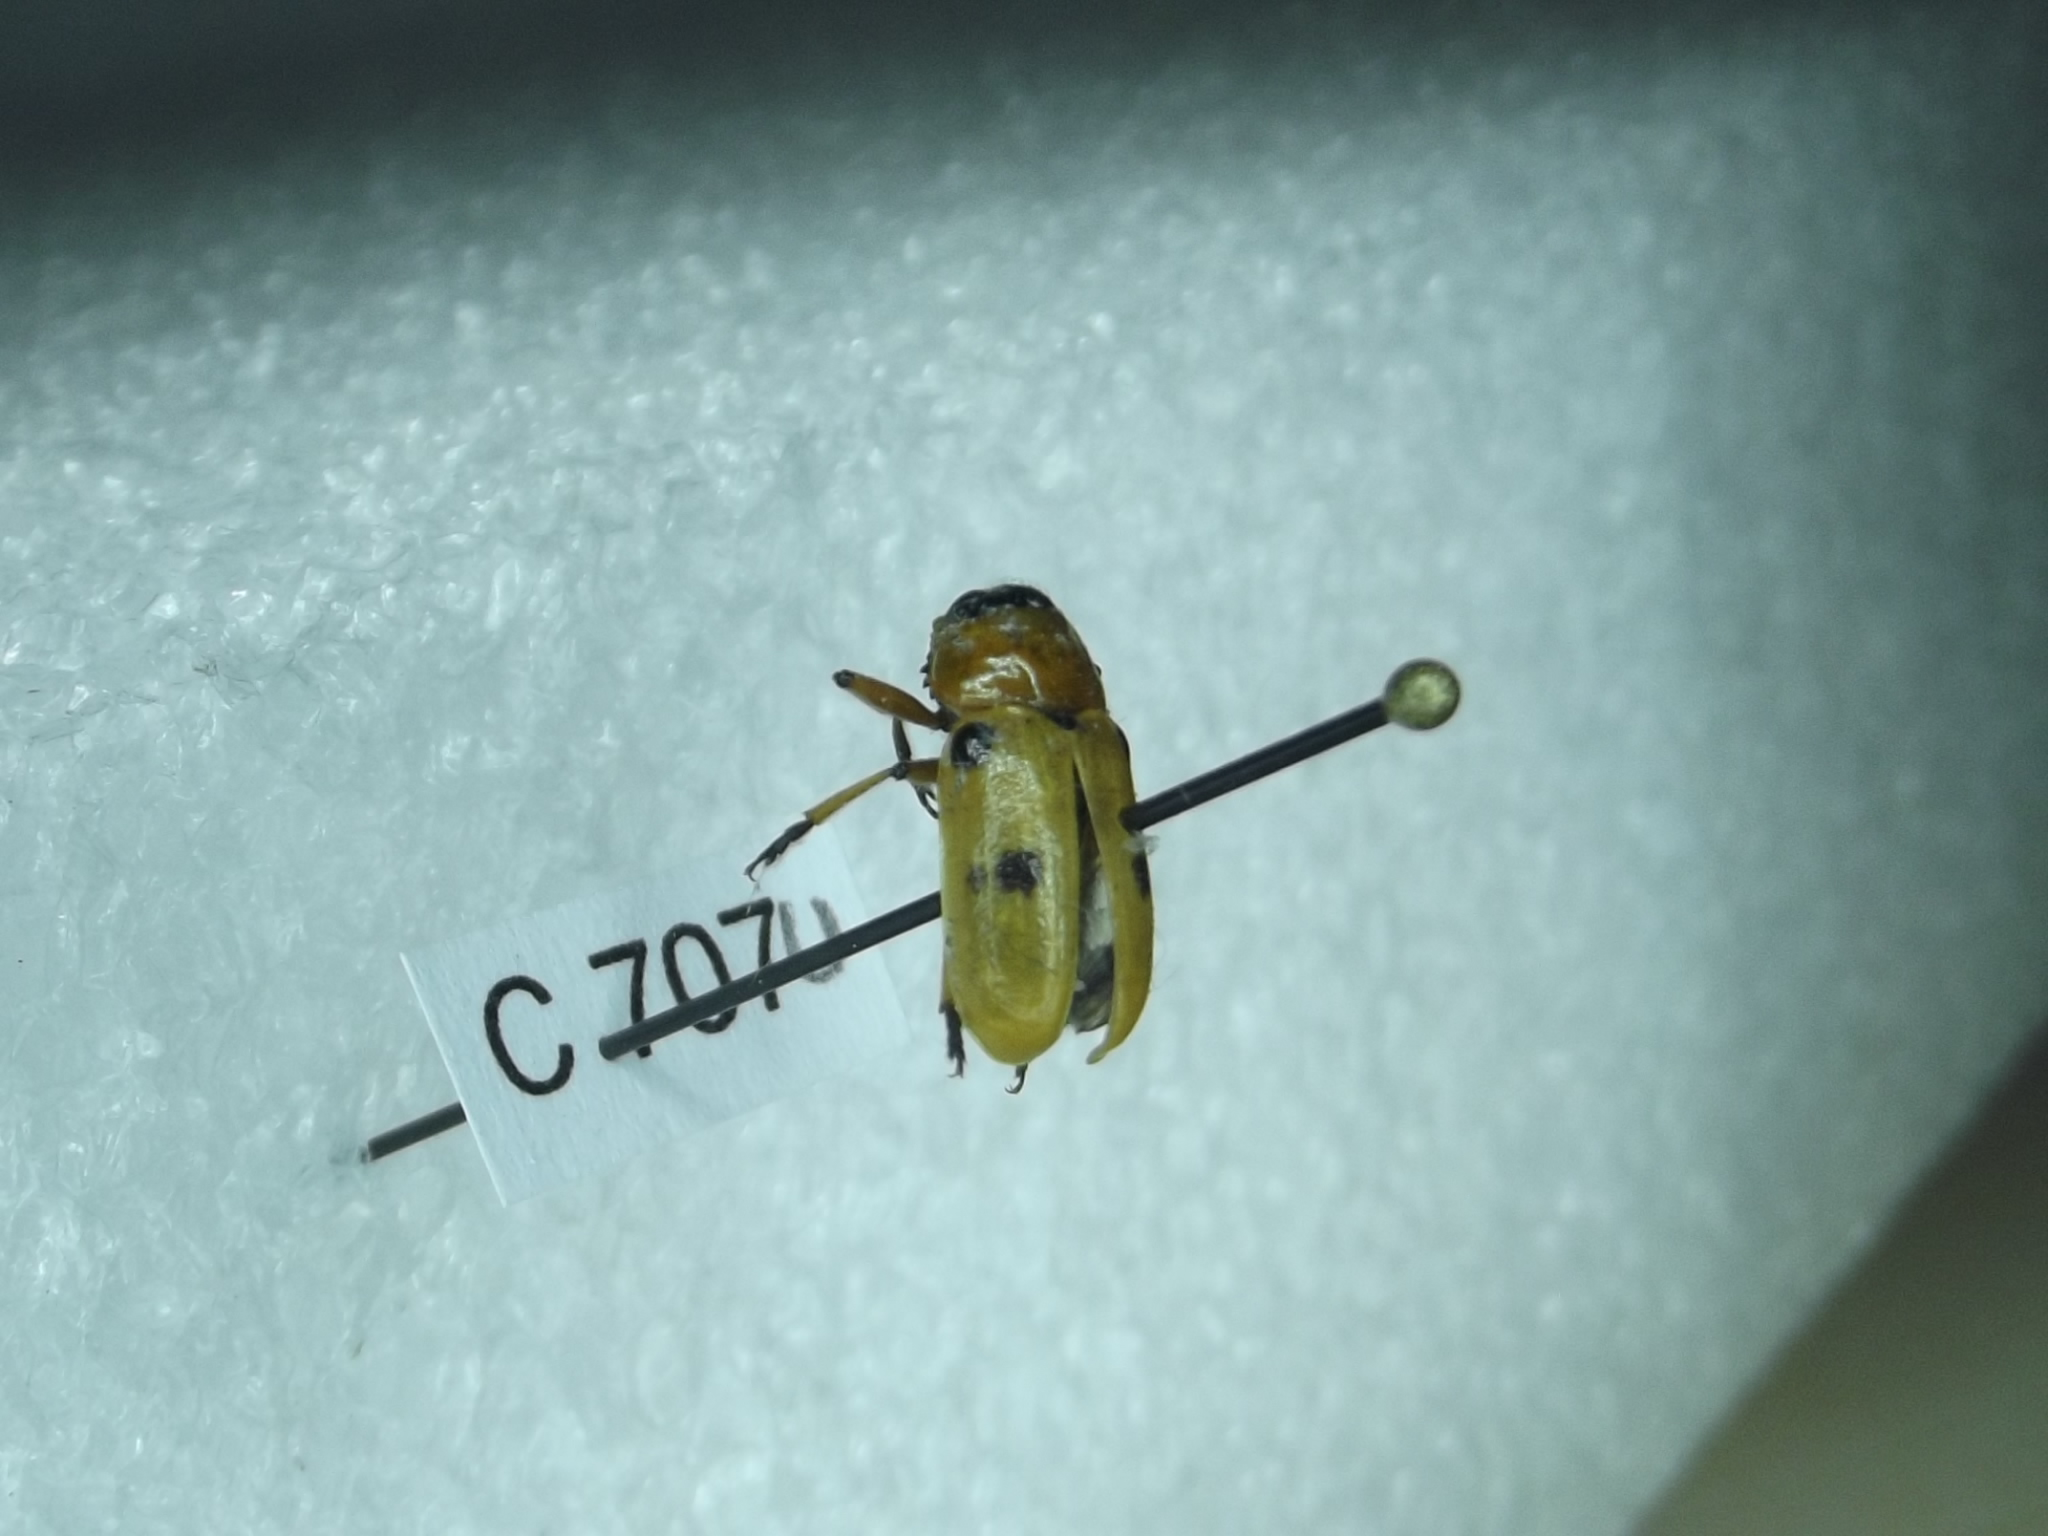Tituboea_macropus: (737, 582, 1176, 1092)
